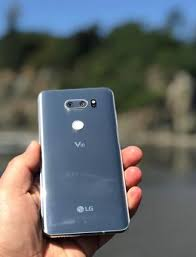lg: (34, 87, 134, 238)
